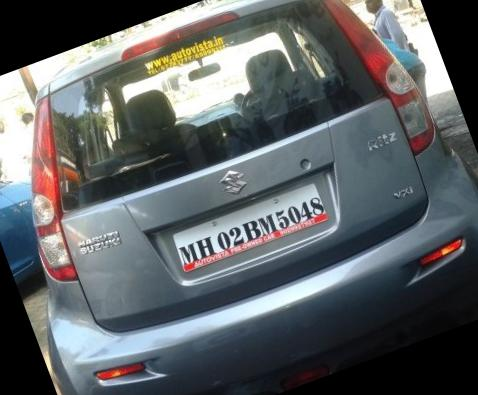plate: (157, 173, 341, 288)
